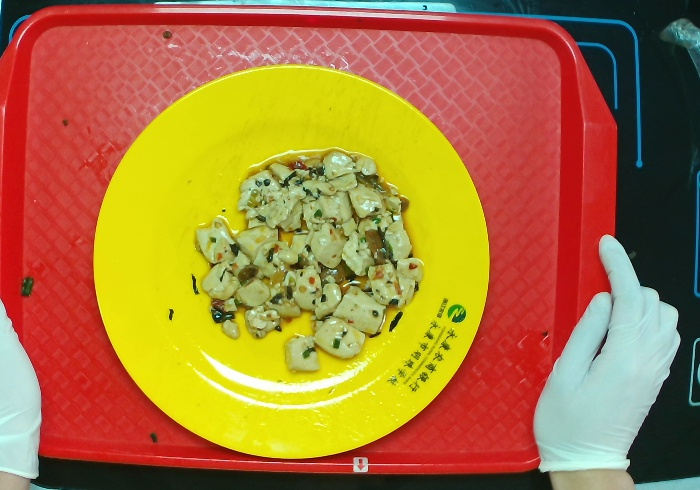YKMZ-Huang_Se_Mian_Pan: (87, 60, 493, 459)
